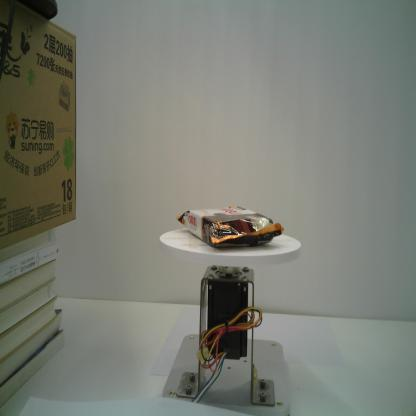Dessert: (176, 200, 284, 251)
